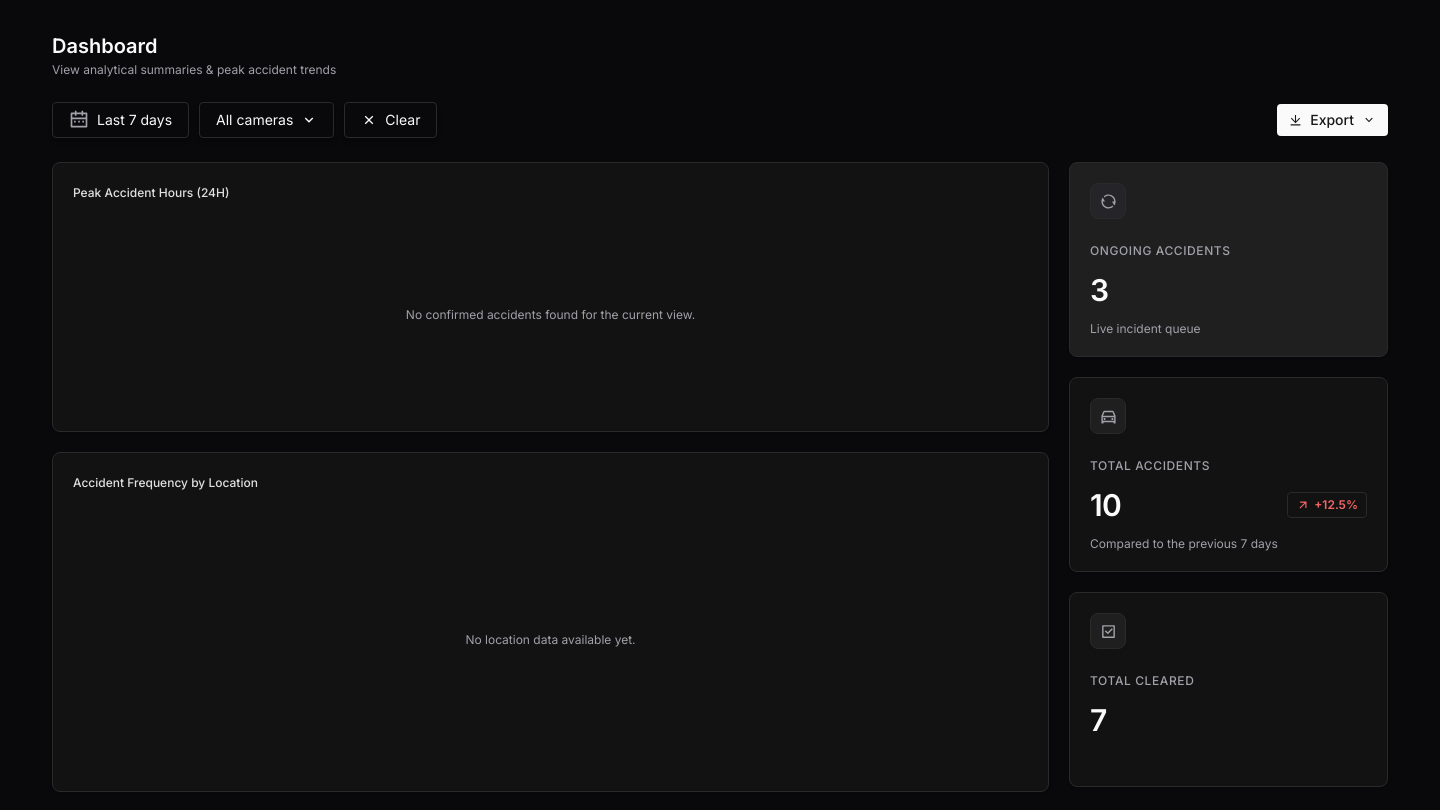
Scenario: Dashboard KPI delta caption › follows the operator's own range, not a fixed 7
This screenshot has width=1440, height=810.
Click the button with aria-label "Filter analytics by date" at (120, 120), box x1=52 y1=102 x2=189 y2=138
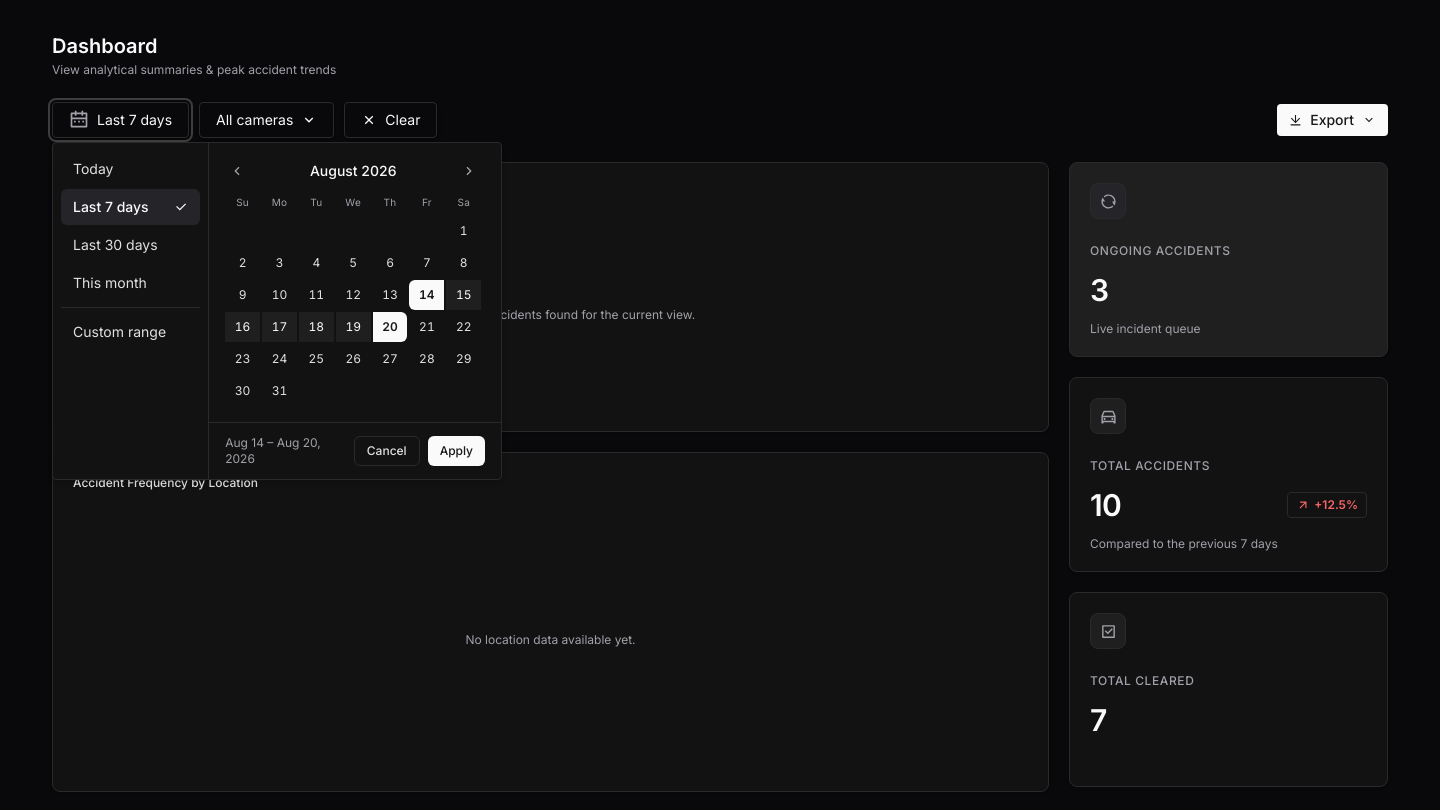
Click the button "Custom range" at (131, 332), box x1=61 y1=314 x2=200 y2=350
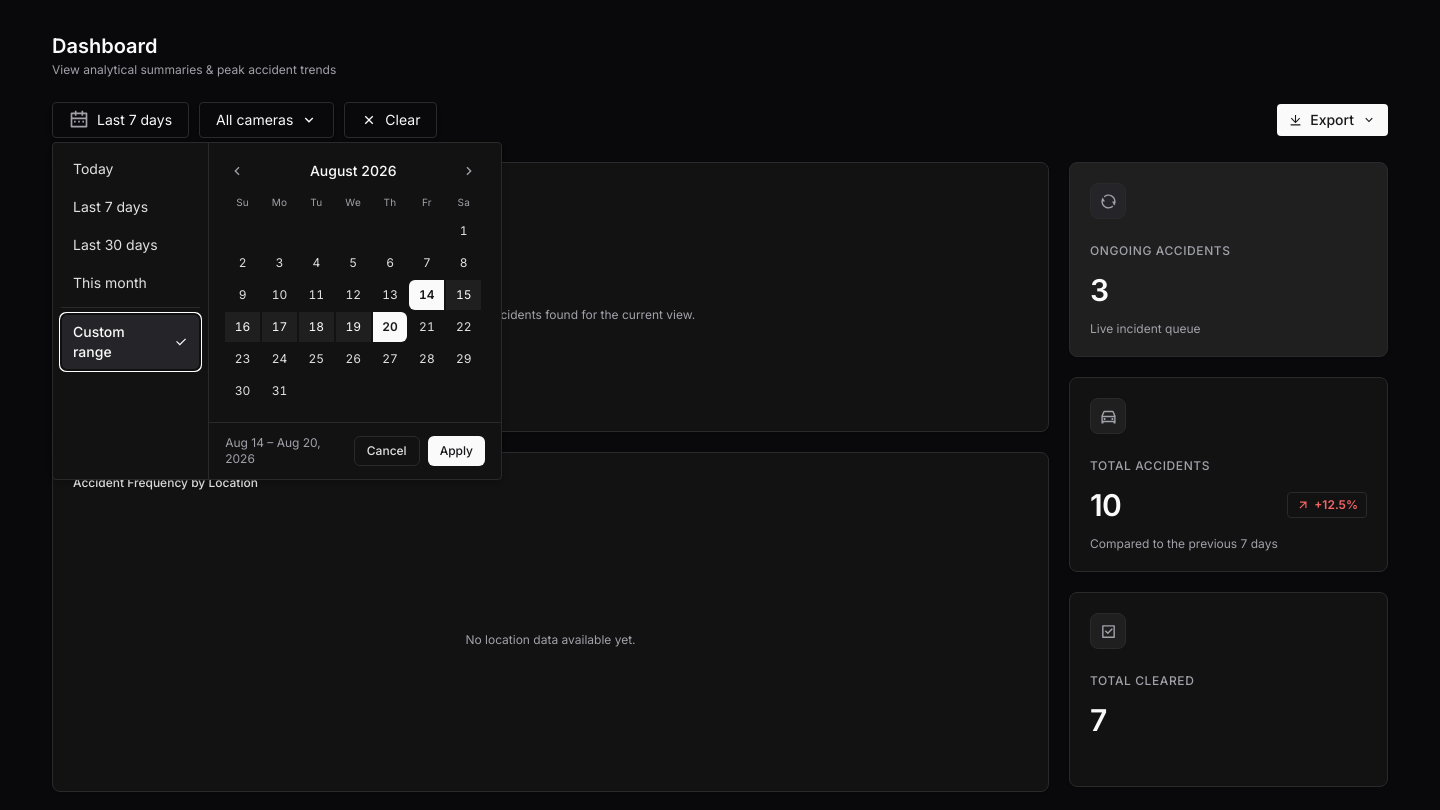
Click the button named "August 16, 2026" at (243, 327), box x1=225 y1=312 x2=260 y2=342
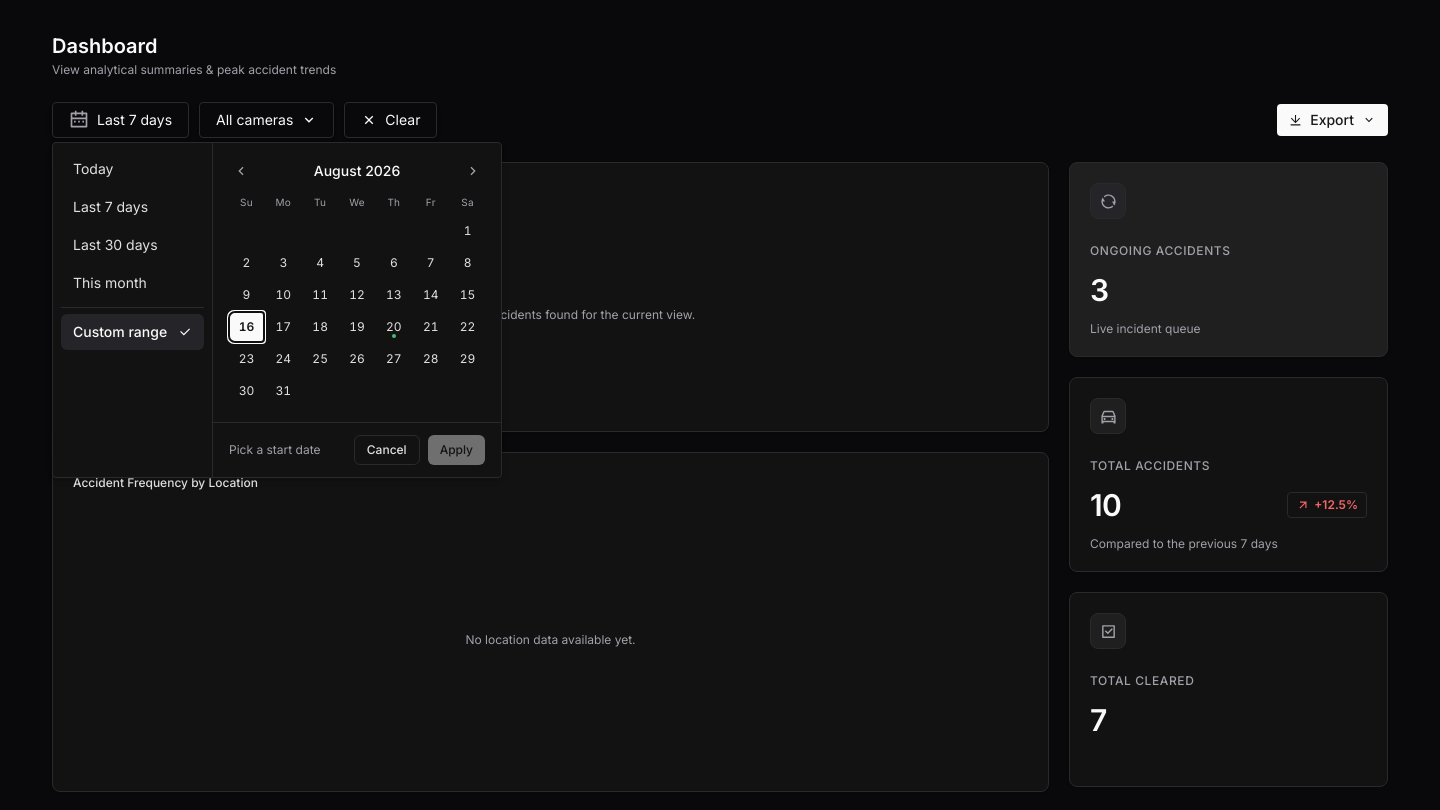
Click the button named "August 30, 2026" at (246, 391), box x1=229 y1=376 x2=264 y2=406
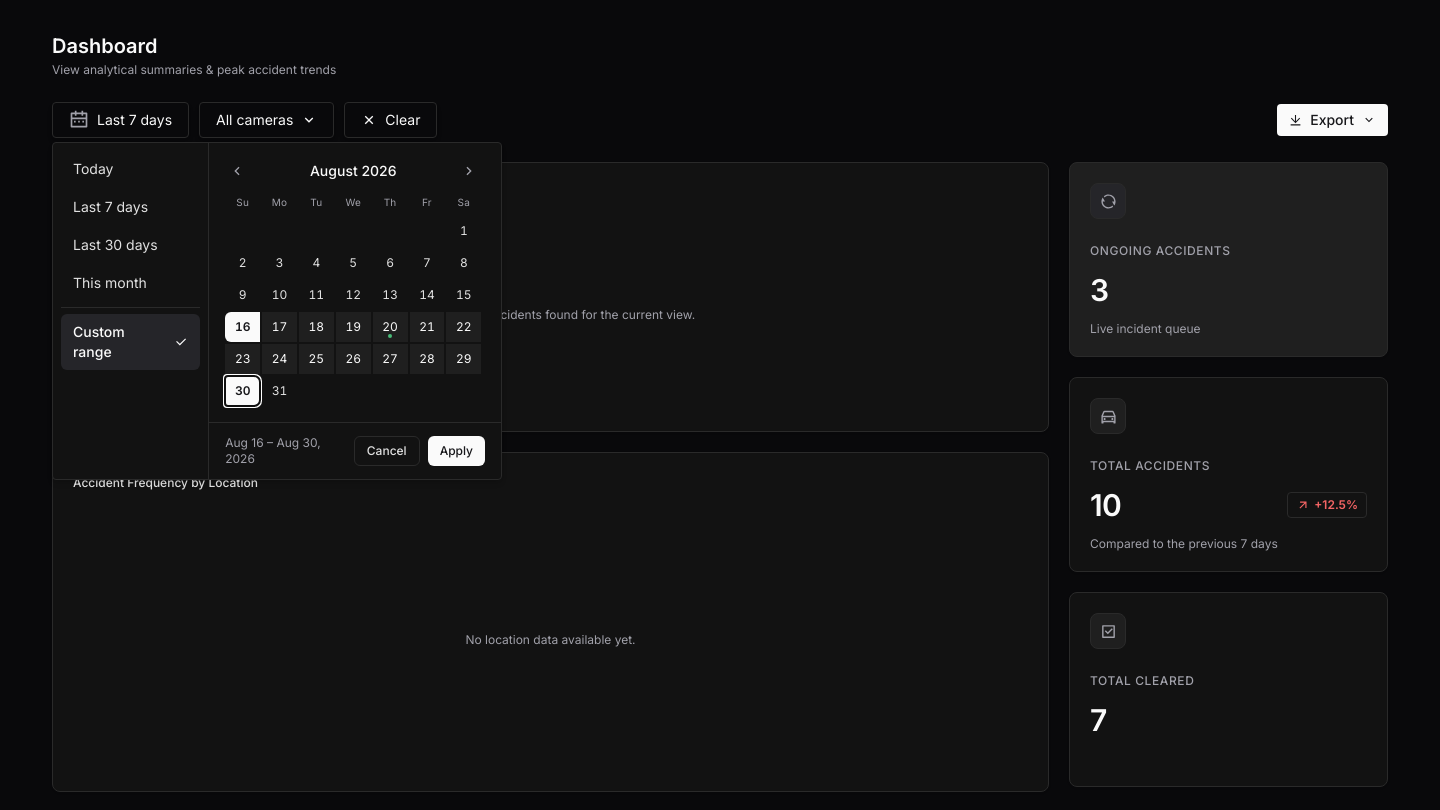
Click the button "Apply" at (456, 451), box x1=428 y1=436 x2=485 y2=466
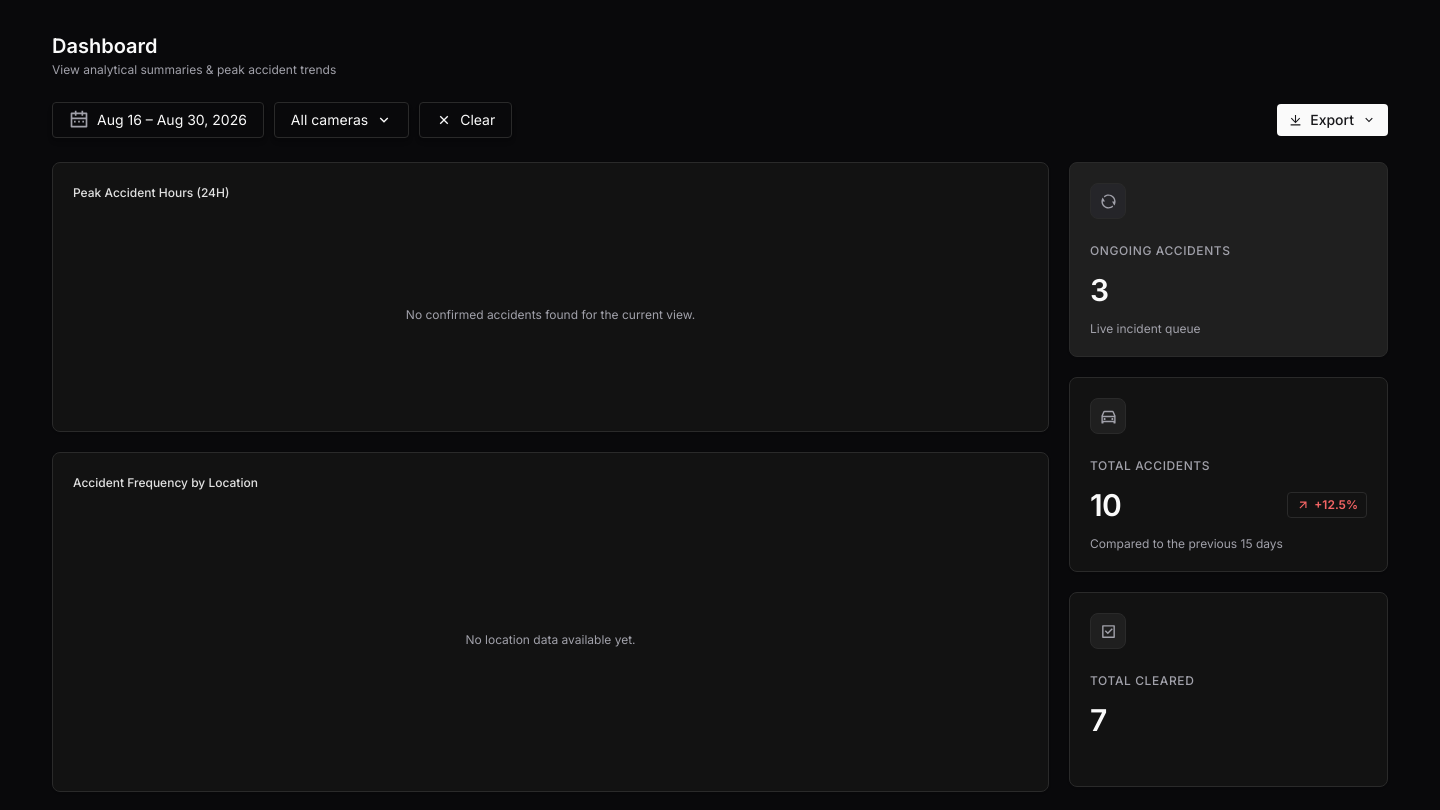
Expected: the text "Compared to the previous 15 days" is shown, x1=1090 y1=536 x2=1283 y2=551
